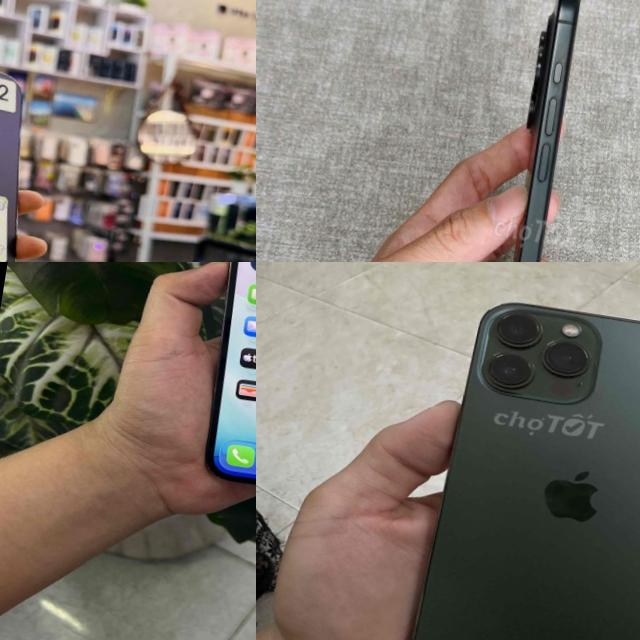gen_12_13: (391, 290, 640, 640)
gen_14: (0, 17, 58, 262)
gen_15: (448, 0, 603, 262)
